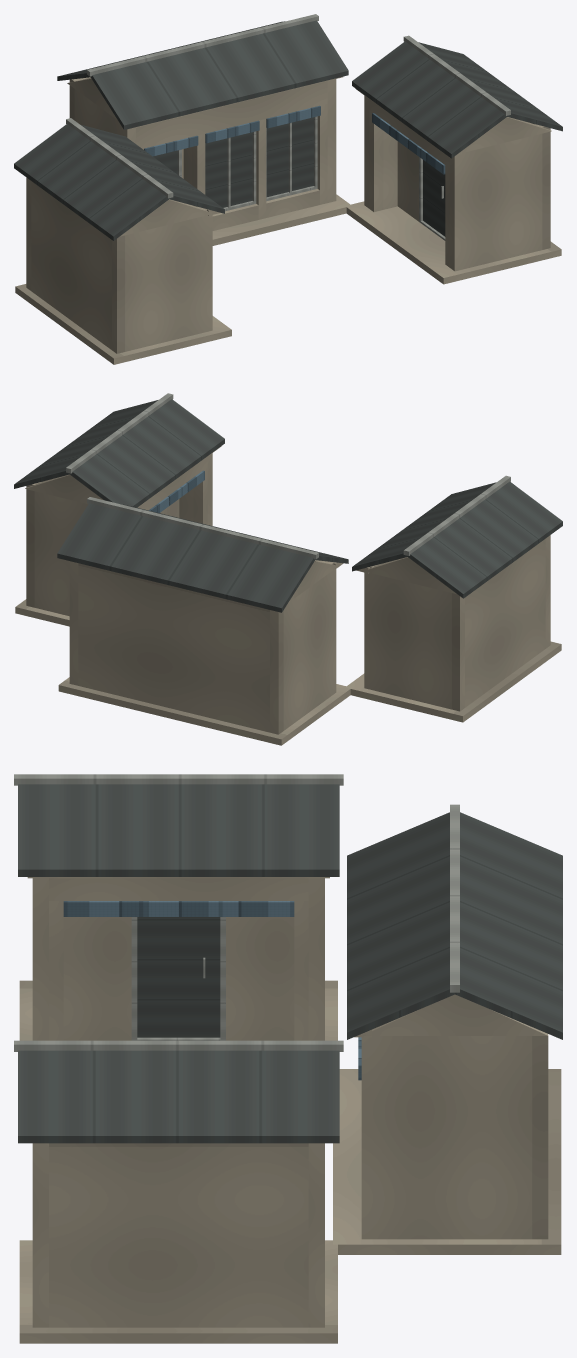
The picture shows the model from 3 angles, top to bottom: view 1: azimuth 30°, elevation 25°; view 2: azimuth 150°, elevation 25°; view 3: azimuth 270°, elevation 25°; orthographic projection. The views are drawn at different scales.
Visible parts, largest first — view 1: st-helier; view 2: st-helier; view 3: st-helier.
Part boxes in pixels (<box>): st-helier: <box>14,14,562,364</box>; st-helier: <box>14,393,562,745</box>; st-helier: <box>14,774,562,1343</box>.
Bounding box in the file's own units: 8.6 × 3.08 × 5.63.
1 material, 1 textured.
